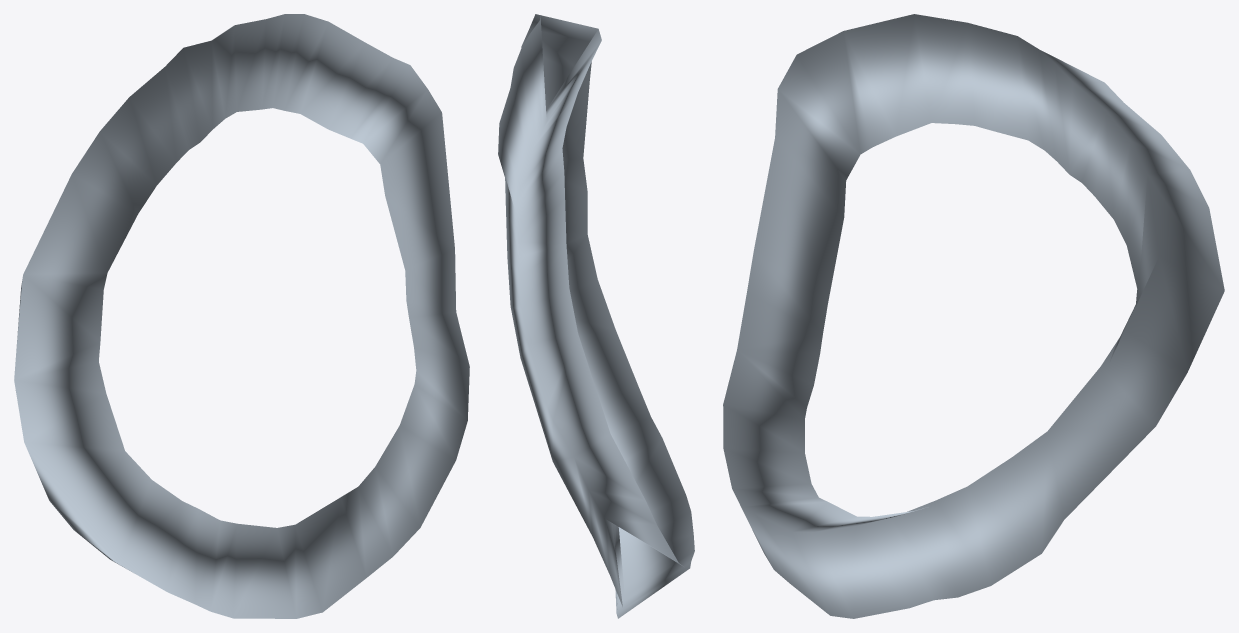
The model's file is glenoid-labrum-r.glb.
3 views of the same model, side by side, from view 1: azimuth 30°, elevation 25°; view 2: azimuth 150°, elevation 25°; view 3: azimuth 270°, elevation 25° (orthographic). The views are drawn at different scales.
Parts seen in each view (by area): view 1: Glenoid labrum.r; view 2: Glenoid labrum.r; view 3: Glenoid labrum.r.
Boxes of the visible parts, x1,y1,x2,y2 form: Glenoid labrum.r: (14, 14, 469, 618); Glenoid labrum.r: (498, 14, 694, 618); Glenoid labrum.r: (723, 14, 1224, 618).
Bounding box in the file's own units: 0.0194 × 0.036 × 0.026.
